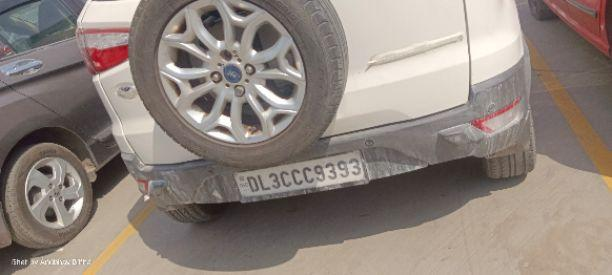license_plate: (231, 149, 369, 203)
